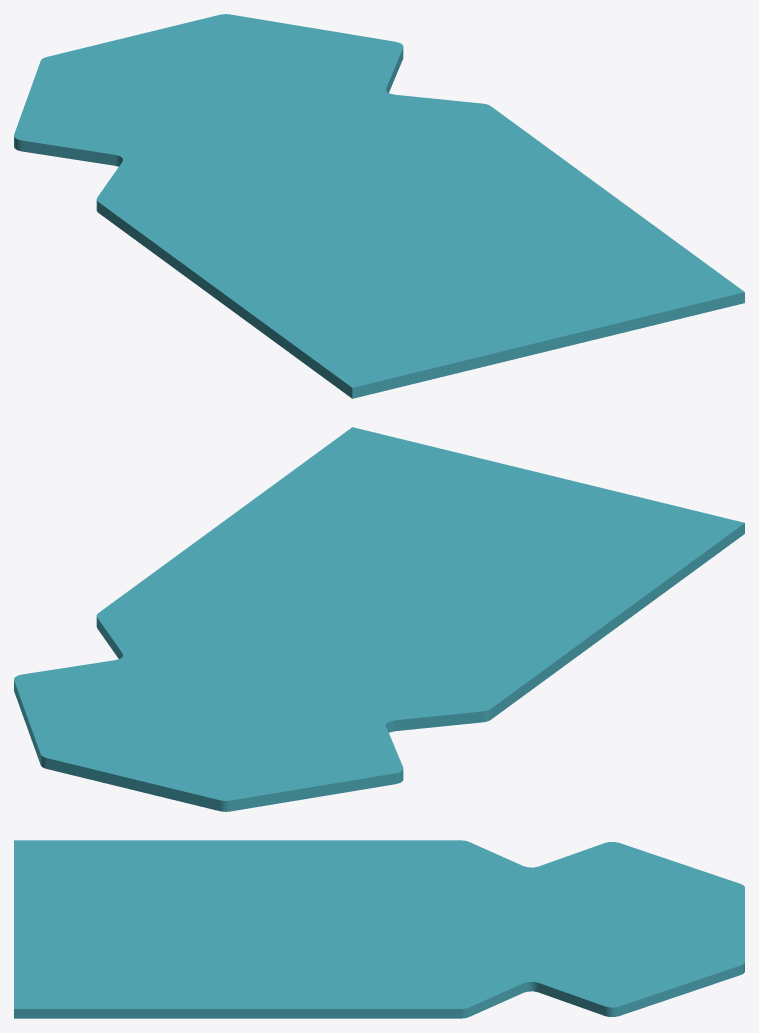
Rendered from Base_mujoco.obj.
3 views of the same model, one above another, from view 1: azimuth 30°, elevation 25°; view 2: azimuth 150°, elevation 25°; view 3: azimuth 270°, elevation 25° (orthographic). The views are drawn at different scales.
Visible parts, largest first — view 1: Solid1; view 2: Solid1; view 3: Solid1.
Boxes of the visible parts, box(x1,y1,x2,y2) form: Solid1: box(14, 14, 744, 398); Solid1: box(14, 427, 744, 811); Solid1: box(14, 840, 744, 1018).
Bounding box in the file's own units: 0.15 × 0.004 × 0.275.
